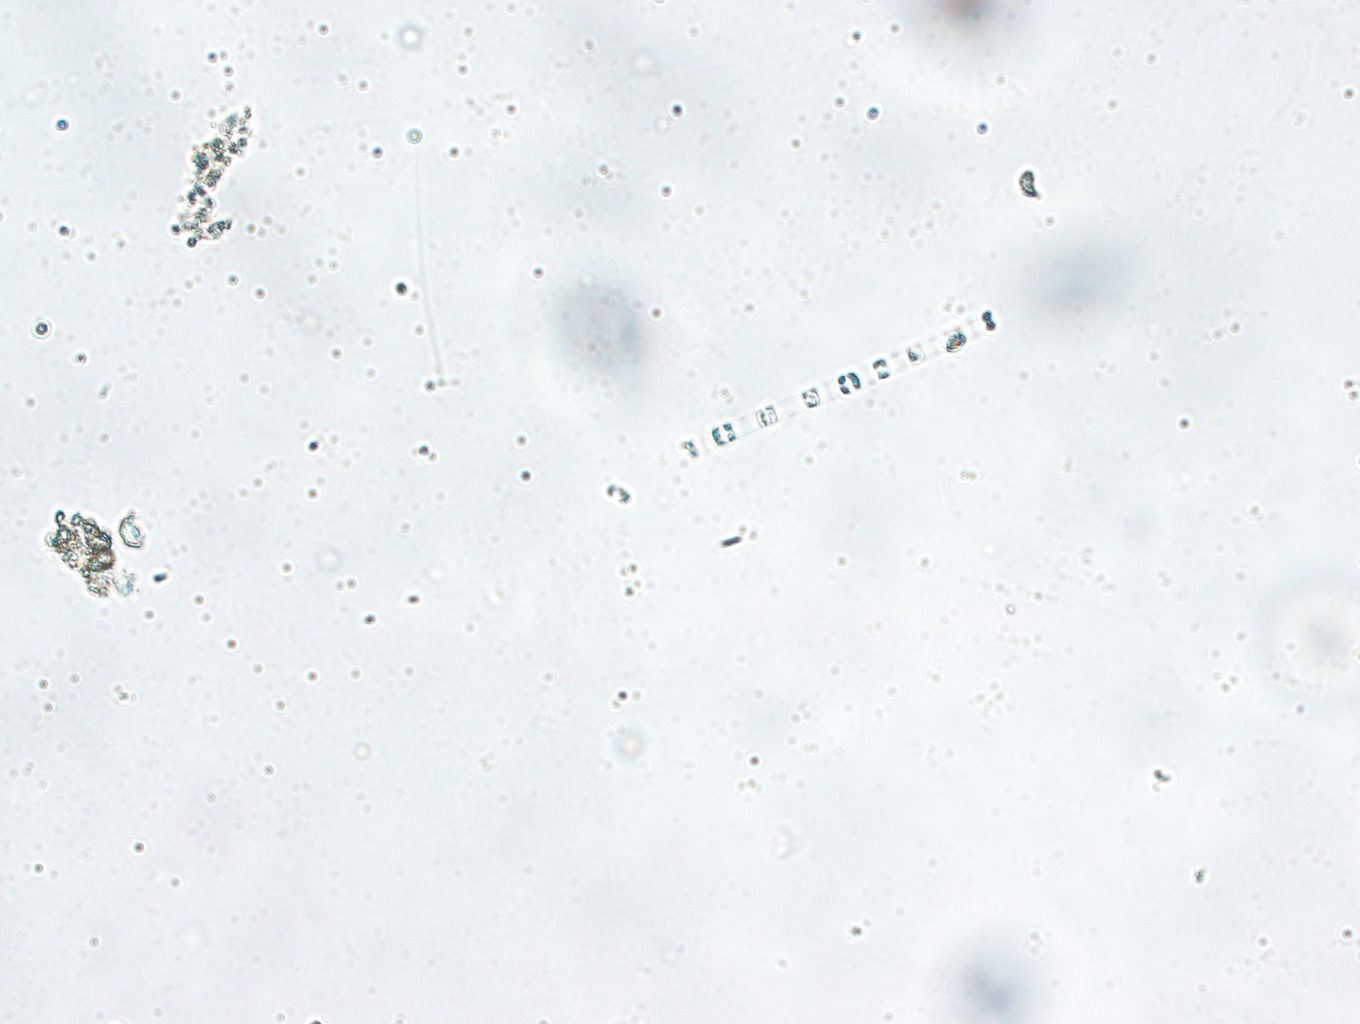skeletonema: (676, 305, 1005, 461)
